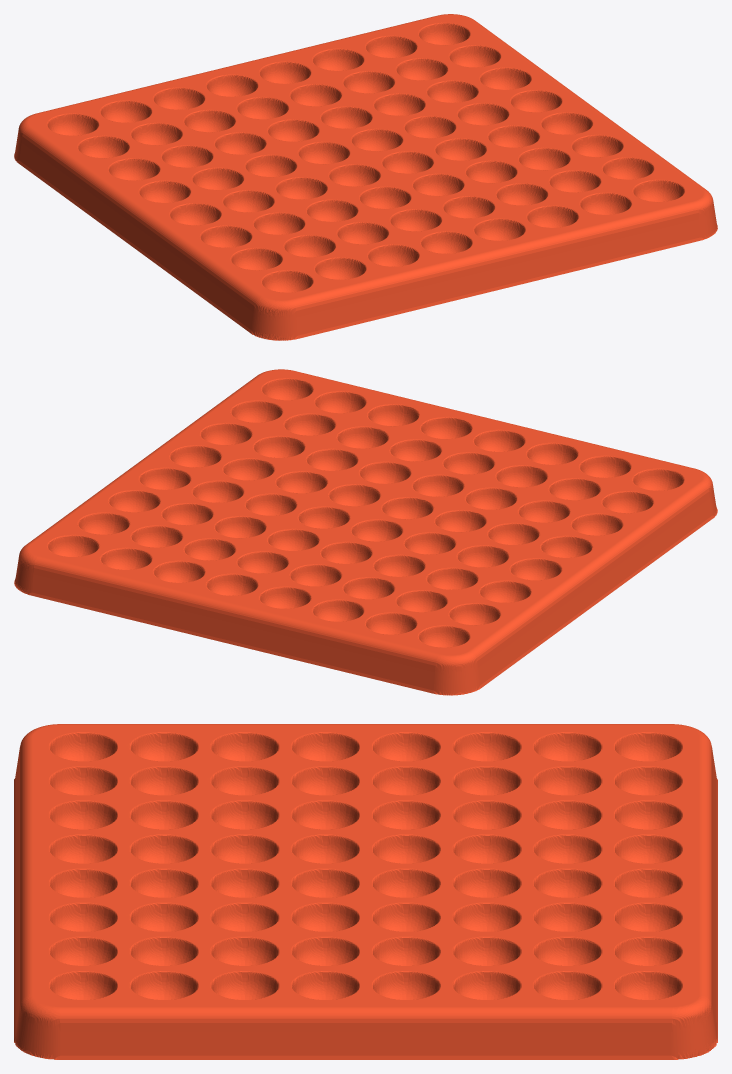
The model's file is mold.glb.
3 views of the same model, one above another, from view 1: azimuth 30°, elevation 25°; view 2: azimuth 150°, elevation 25°; view 3: azimuth 270°, elevation 25° (orthographic). The views are drawn at different scales.
Parts seen in each view (by area): view 1: geometry_0; view 2: geometry_0; view 3: geometry_0.
Part boxes in pixels (box(x1,y1,x2,y2)): geometry_0: box(14, 14, 717, 340); geometry_0: box(14, 369, 717, 695); geometry_0: box(14, 724, 717, 1059).
Size of the model in its own units: 0.1355 by 0.00958 by 0.1355.
